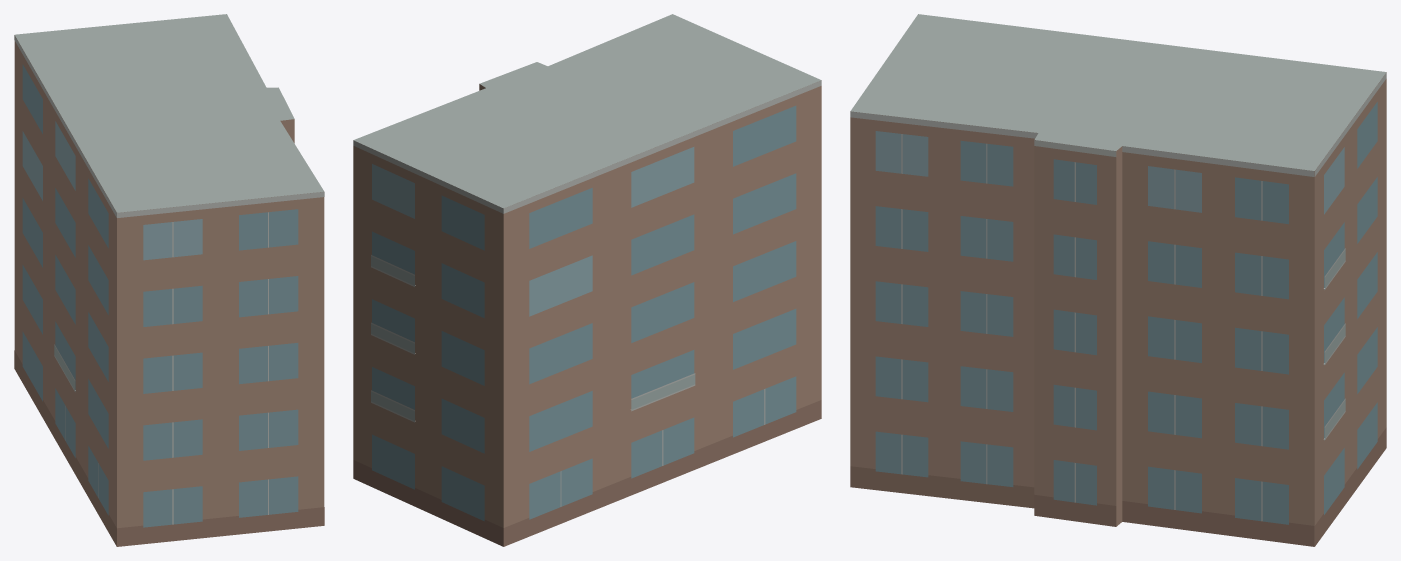
The model's file is survey-upis-32868539.glb.
3 renders of one model, left to right at view 1: azimuth 30°, elevation 25°; view 2: azimuth 150°, elevation 25°; view 3: azimuth 270°, elevation 25°, orthographic. The views are drawn at different scales.
Visible parts, largest first — view 1: survey-upis-32868539.tmp; view 2: survey-upis-32868539.tmp; view 3: survey-upis-32868539.tmp.
Boxes of the visible parts, <box> form: survey-upis-32868539.tmp: <box>14,14,324,546</box>; survey-upis-32868539.tmp: <box>353,14,821,546</box>; survey-upis-32868539.tmp: <box>850,14,1386,546</box>.
Size of the model in its own units: 13.68 by 15.25 by 19.74.
